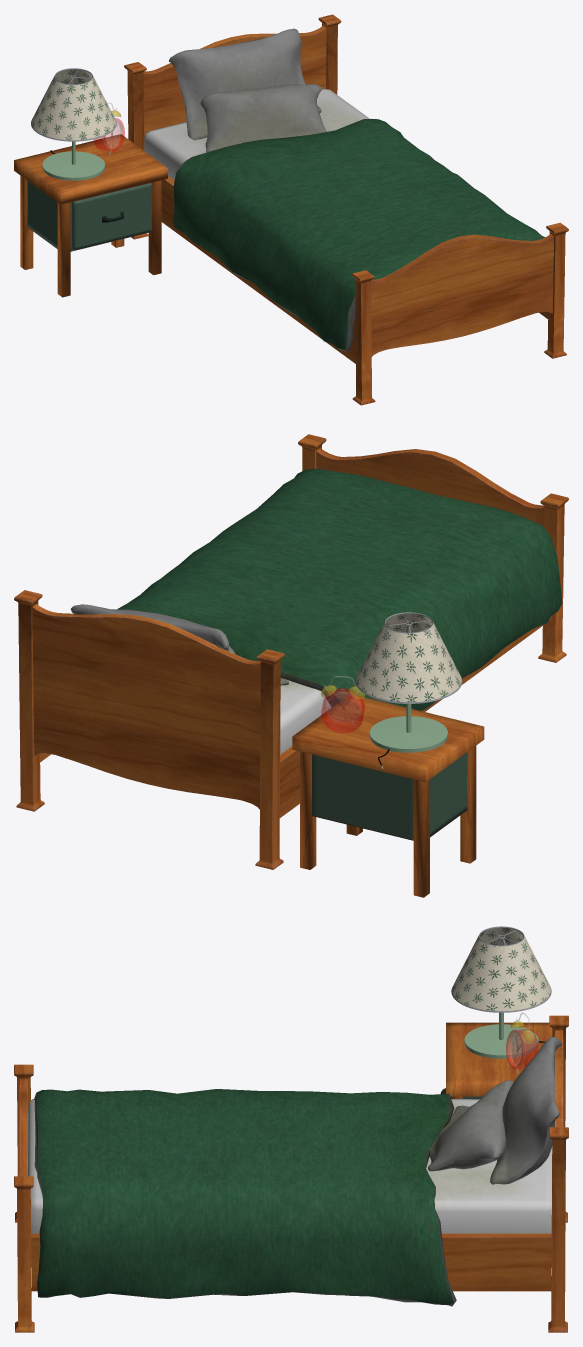
The model's file is obj_bed_bedside_table_aaecea.glb.
3 views of the same model, one above another, from view 1: azimuth 30°, elevation 25°; view 2: azimuth 150°, elevation 25°; view 3: azimuth 270°, elevation 25° (orthographic). The views are drawn at different scales.
Visible parts, largest first — view 1: obj_bed_bedside_table_aaecea; view 2: obj_bed_bedside_table_aaecea; view 3: obj_bed_bedside_table_aaecea.
Part boxes in pixels (x1,y1,x2,y2): obj_bed_bedside_table_aaecea: (14,14,568,405); obj_bed_bedside_table_aaecea: (14,434,568,897); obj_bed_bedside_table_aaecea: (14,926,568,1332).
Size of the model in its own units: 1.32 by 0.7386 by 1.6.
Materials: 4 (4 with a texture image).
